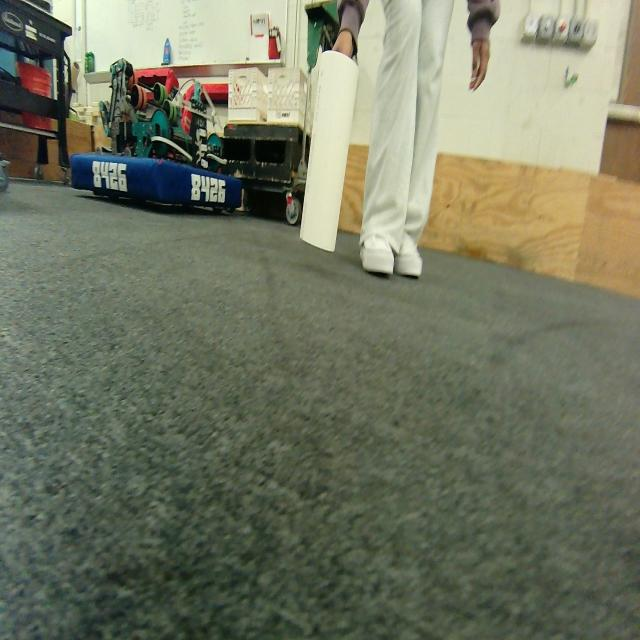coral: (297, 46, 359, 258)
